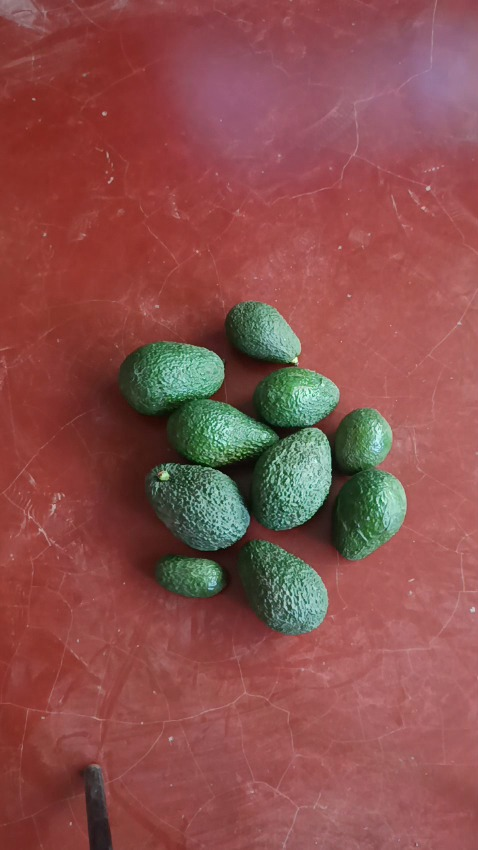Primera: (146, 463, 250, 550), (250, 427, 333, 529), (236, 539, 326, 631), (166, 399, 280, 468), (118, 342, 225, 415)
Segunda: (331, 468, 408, 558), (253, 367, 341, 428)
Tercera: (225, 301, 301, 363), (333, 408, 394, 473), (154, 555, 228, 598)
